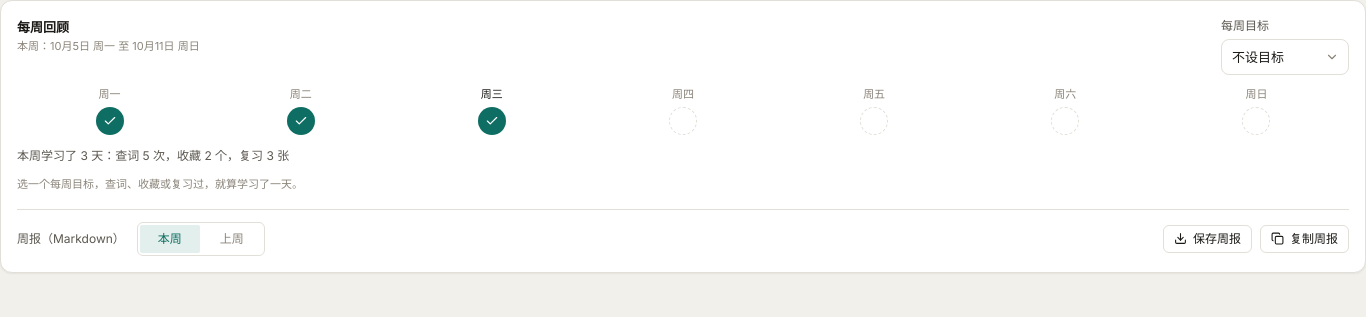
Test: the weekly card of the insights page › the report › is made of fresh figures, whatever the page is showing, and saved under the Monday it starts on
Click the button "保存周报" at (1208, 239), box [1163,225,1252,253]
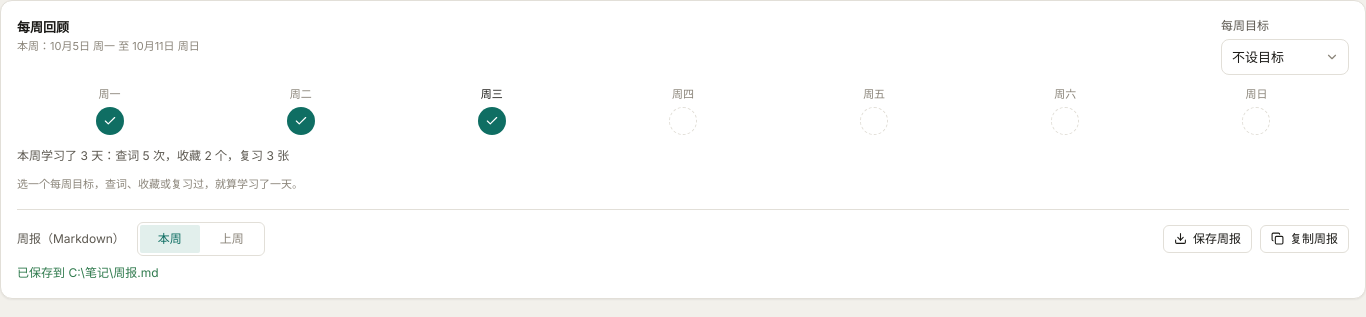
Expected: the message reads "已保存到 C:\\笔记\\周报.md", [17,265,159,280]
